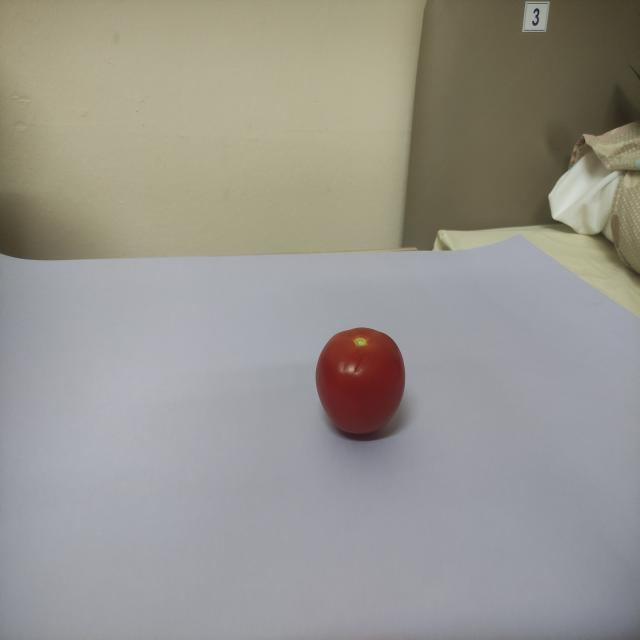kirmizi: (303, 304, 421, 446)
